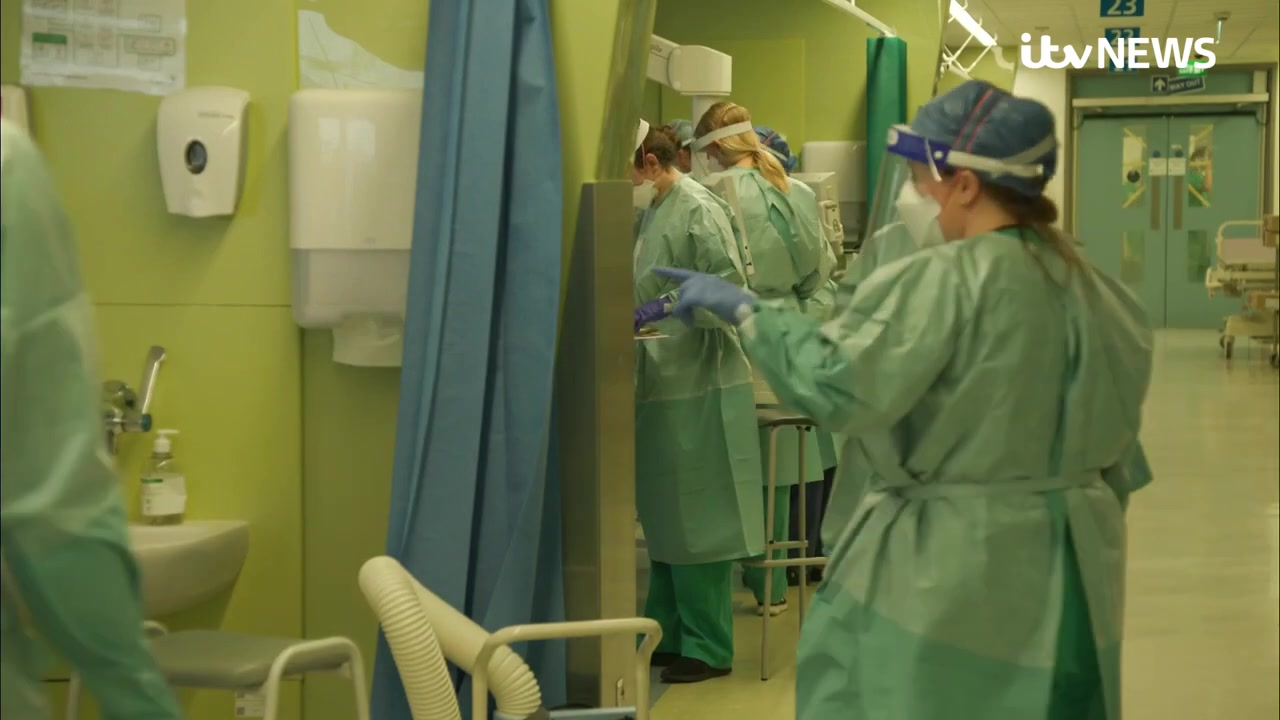chair: (72, 618, 364, 720)
curtain: (365, 1, 568, 720), (862, 38, 910, 253)
dispenser: (290, 84, 422, 332), (156, 86, 251, 220), (140, 429, 189, 526)
faucet: (97, 346, 179, 451)
hospital_bed: (1203, 219, 1280, 369)
sink: (127, 522, 247, 620)
staff: (652, 81, 1154, 720), (631, 118, 767, 692), (694, 103, 820, 616), (753, 125, 840, 587)
